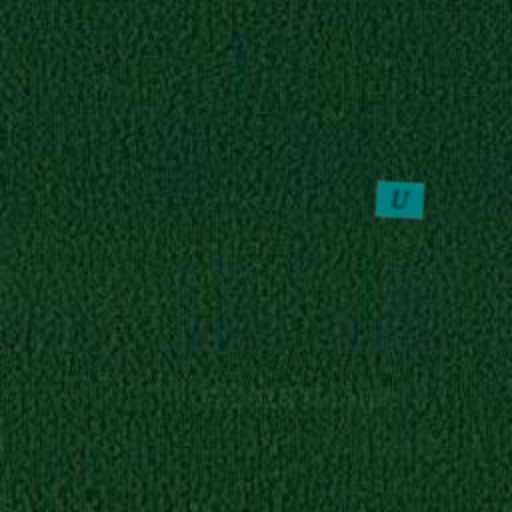rectangle: (374, 174, 426, 226)
